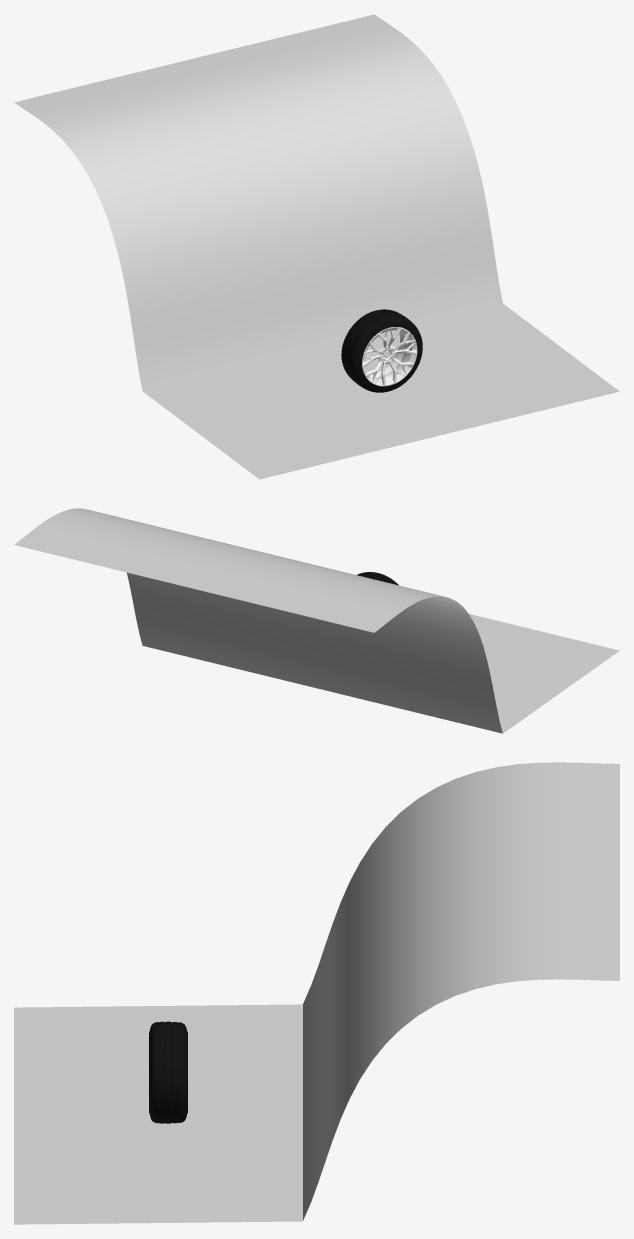
File: tire.glb
3 renders of one model, top to bottom at view 1: azimuth 30°, elevation 25°; view 2: azimuth 150°, elevation 25°; view 3: azimuth 270°, elevation 25°, orthographic. The views are drawn at different scales.
Visible parts, largest first — view 1: Plane, Pirelli PZero Corsa R.003, Circle; view 2: Plane; view 3: Plane, Pirelli PZero Corsa R.003.
Part boxes in pixels (x1,y1,x2,y2): Plane: (14, 14, 619, 479); Pirelli PZero Corsa R.003: (341, 309, 422, 392); Circle: (362, 327, 417, 386); Plane: (14, 508, 619, 733); Plane: (14, 762, 619, 1224); Pirelli PZero Corsa R.003: (149, 1021, 187, 1123).
Size of the model in its own units: 3.52 by 1.85 by 4.15.
5 materials, 1 textured.
